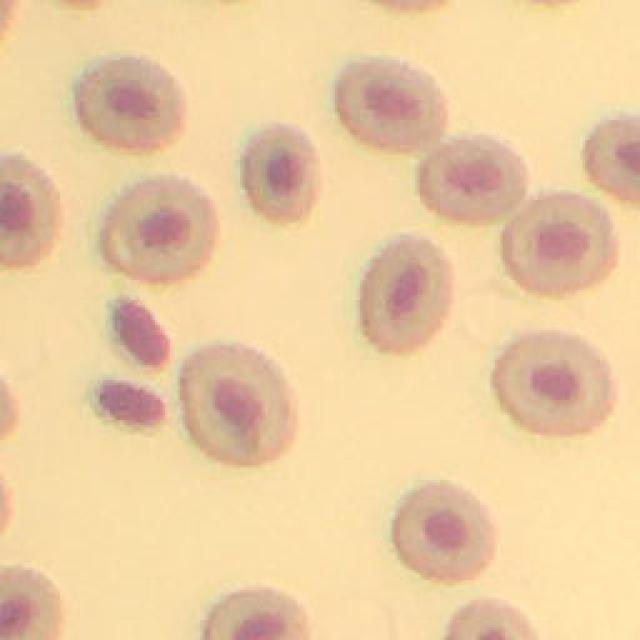RBC: (180, 344, 296, 464), (494, 332, 614, 434), (102, 178, 216, 281), (502, 194, 616, 293), (361, 236, 451, 351), (335, 59, 446, 150), (75, 58, 185, 149), (394, 481, 495, 580), (419, 135, 528, 221), (242, 125, 319, 221), (204, 589, 309, 640), (585, 116, 640, 199), (445, 599, 538, 639)
WBC: (115, 301, 170, 365), (99, 380, 165, 423)
